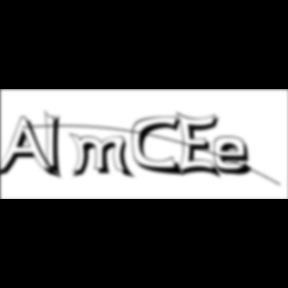A: (0, 116, 64, 182)
C: (132, 115, 188, 178)
E: (176, 110, 225, 182)
e: (213, 135, 259, 178)
l: (44, 108, 68, 182)
m: (69, 132, 137, 181)
